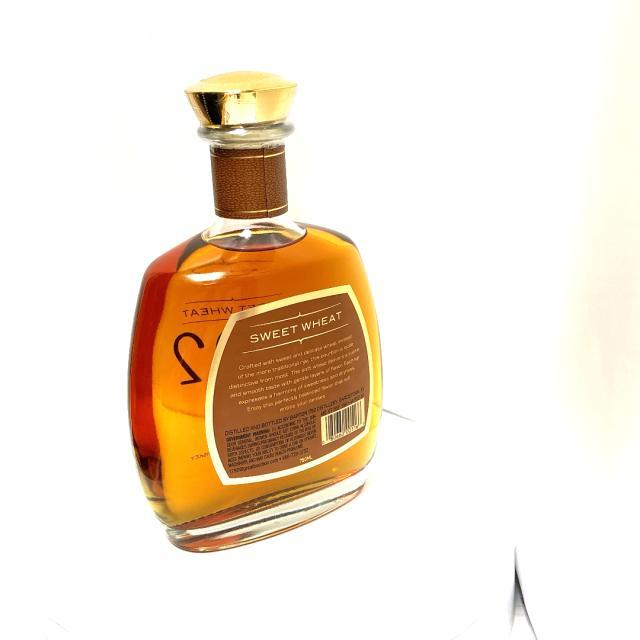1792 SWEET WHEAT 750ML: (120, 64, 392, 578)
